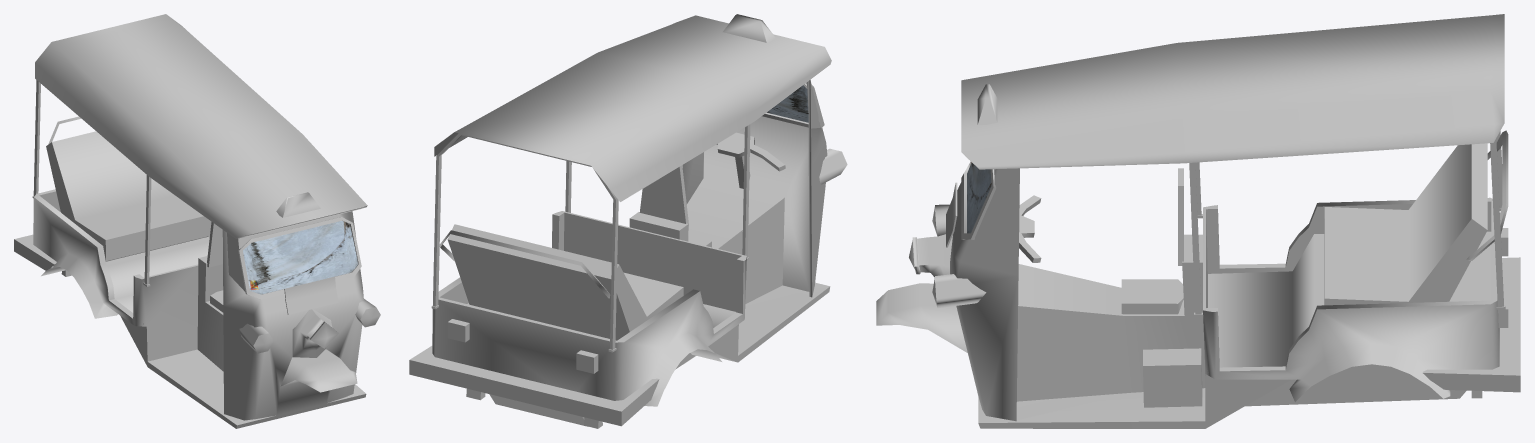
The model's file is TukTuk.fbx.
The picture shows the model from 3 angles, left to right: view 1: azimuth 30°, elevation 25°; view 2: azimuth 150°, elevation 25°; view 3: azimuth 270°, elevation 25°; orthographic projection. The views are drawn at different scales.
Parts seen in each view (by area): view 1: TukTuk_LOD3; view 2: TukTuk_LOD3; view 3: TukTuk_LOD3.
Boxes of the visible parts, x1,y1,x2,y2 form: TukTuk_LOD3: (14, 14, 380, 428); TukTuk_LOD3: (409, 14, 847, 428); TukTuk_LOD3: (876, 14, 1520, 428).
Size of the model in its own units: 1.16 by 1.5 by 2.63.
